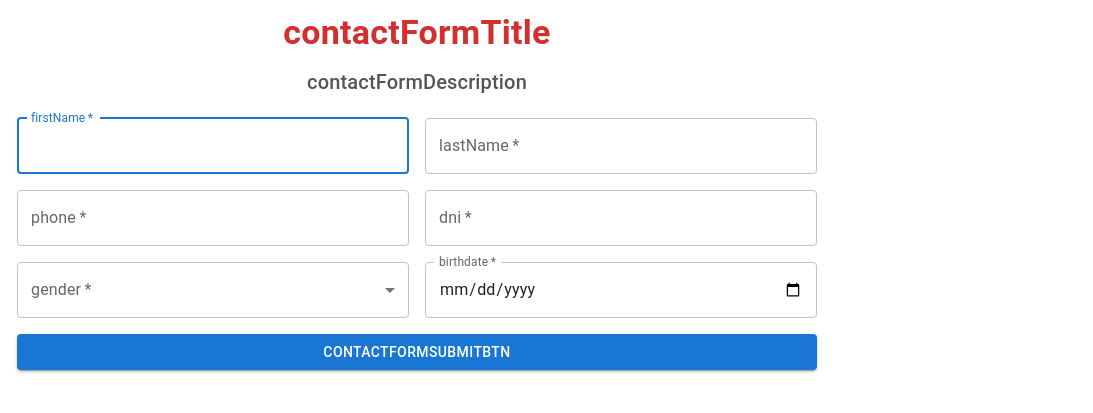
it: ContactForm › shows error snackbar message on unsuccessful form submission
Type "John" into the field with test id "firstName" at (213,146), box [17,118,409,174]
Type "Doe" into the field with test id "lastName" at (621,146), box [425,118,817,174]
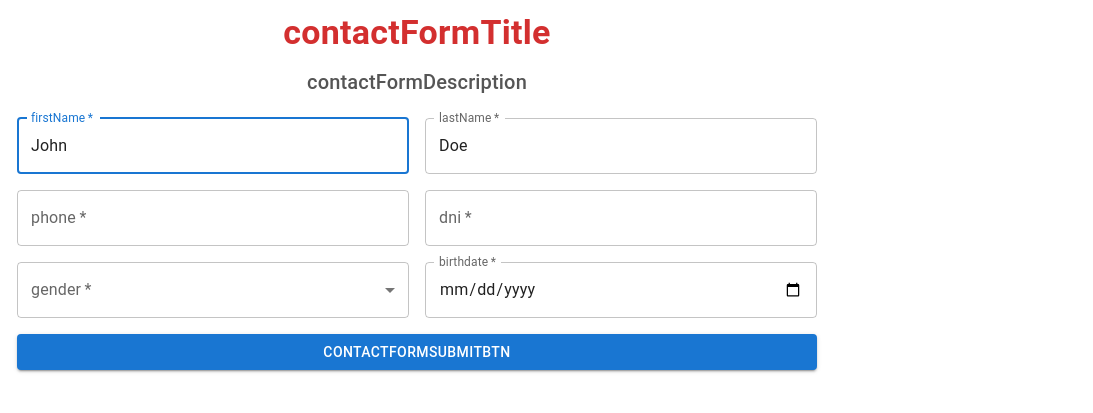
Type "123" into the field with test id "phone" at (213,218), box [17,190,409,246]
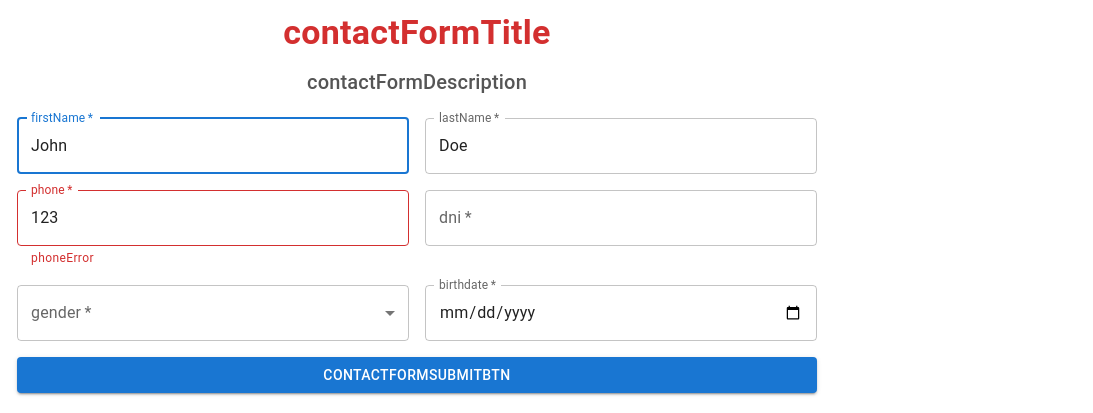
Type "12345678X" into the field with test id "dni" at (621,218), box [425,190,817,246]
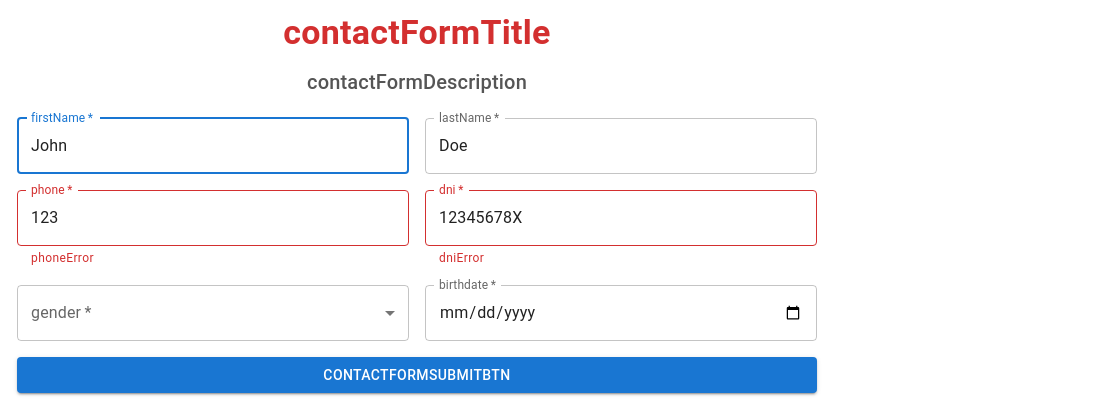
Replace the text in the field with test id "gender" with "male" at (213,313), box [17,285,409,341]
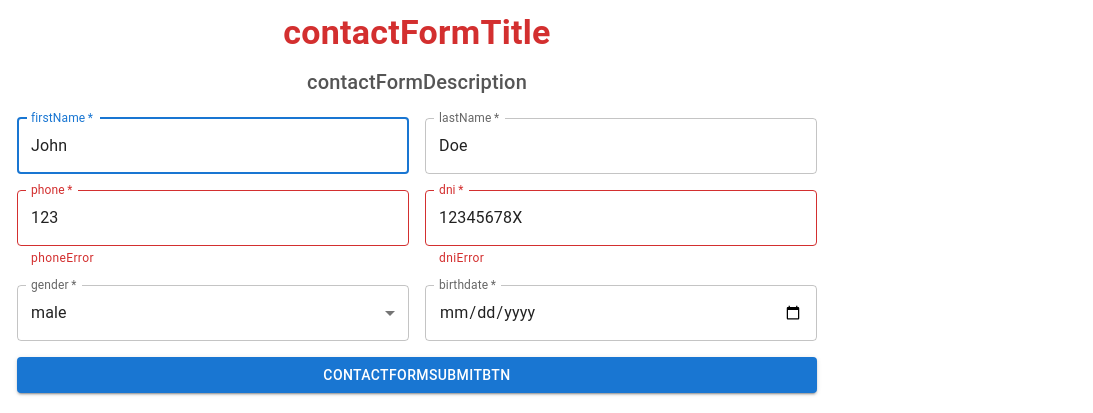
Type "1990-01-01" into the date field with test id "birthDate" at (621,313), box [425,285,817,341]
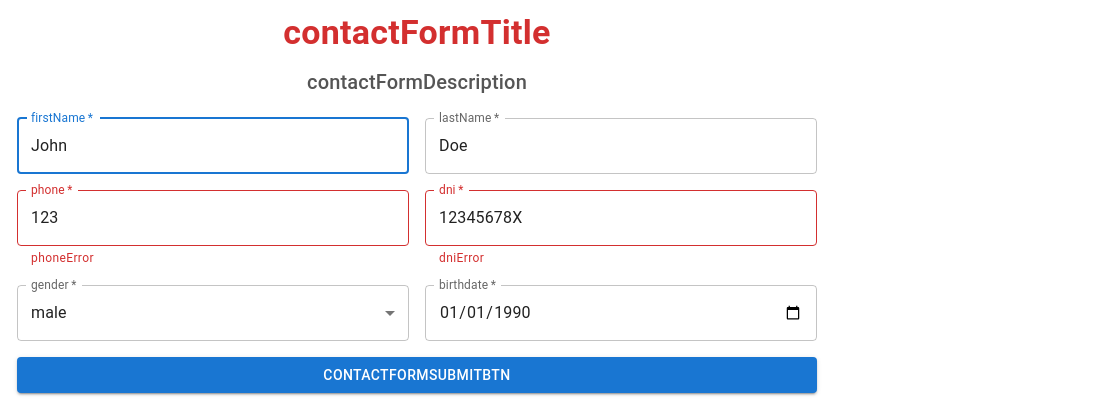
Click the button "contactFormSubmitBtn" at (417,375), box [17,357,817,393]
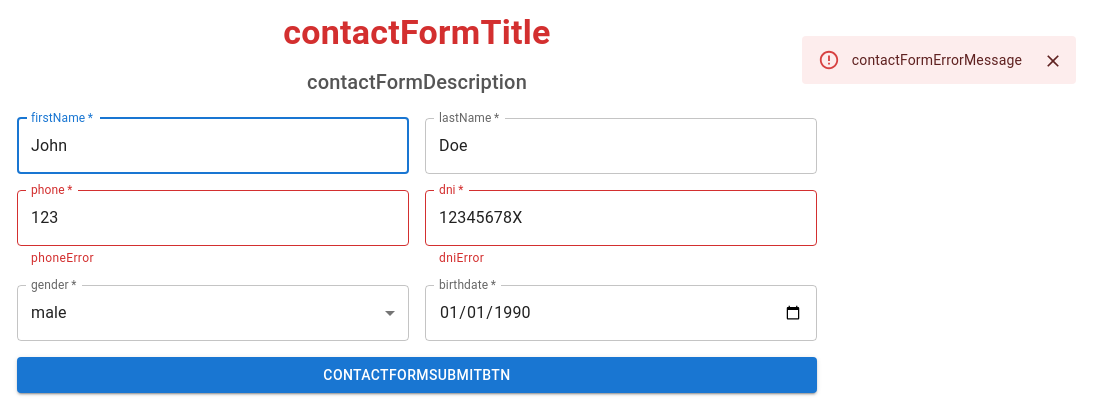
Expected: the text "contactFormErrorMessage" is shown, [852,52,1022,68]
